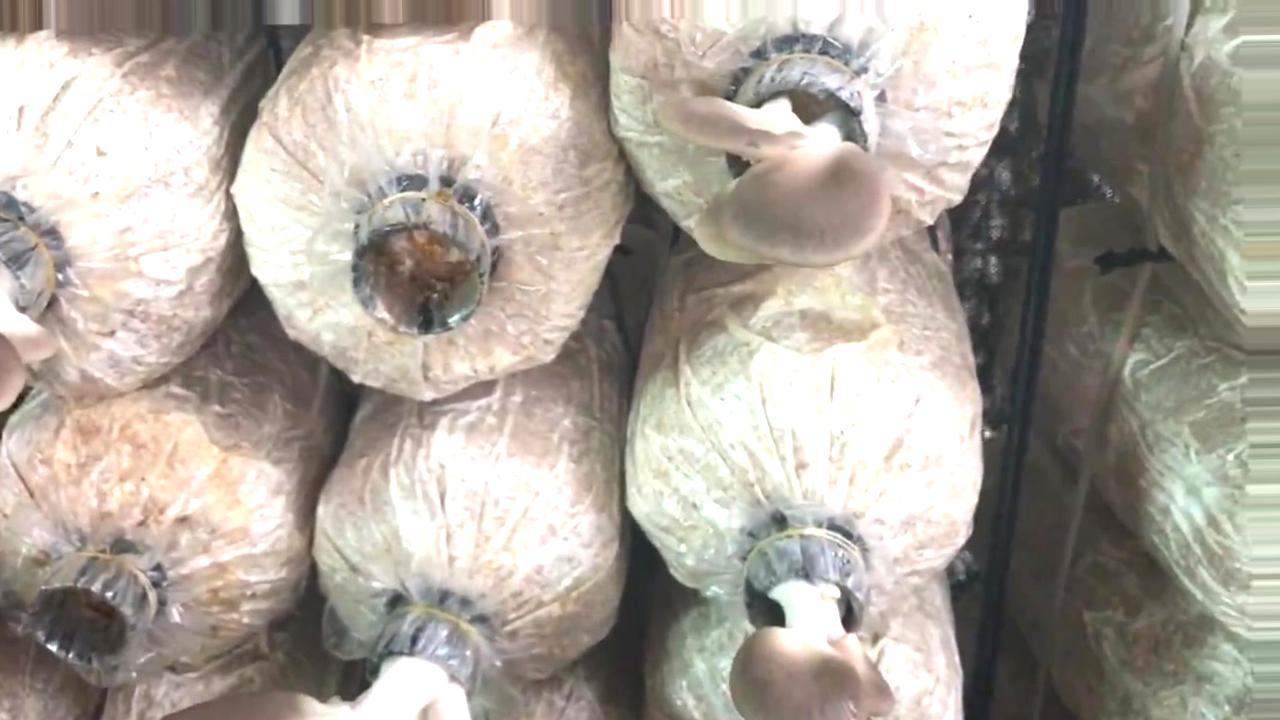nam: (655, 37, 895, 268), (727, 516, 896, 718)
